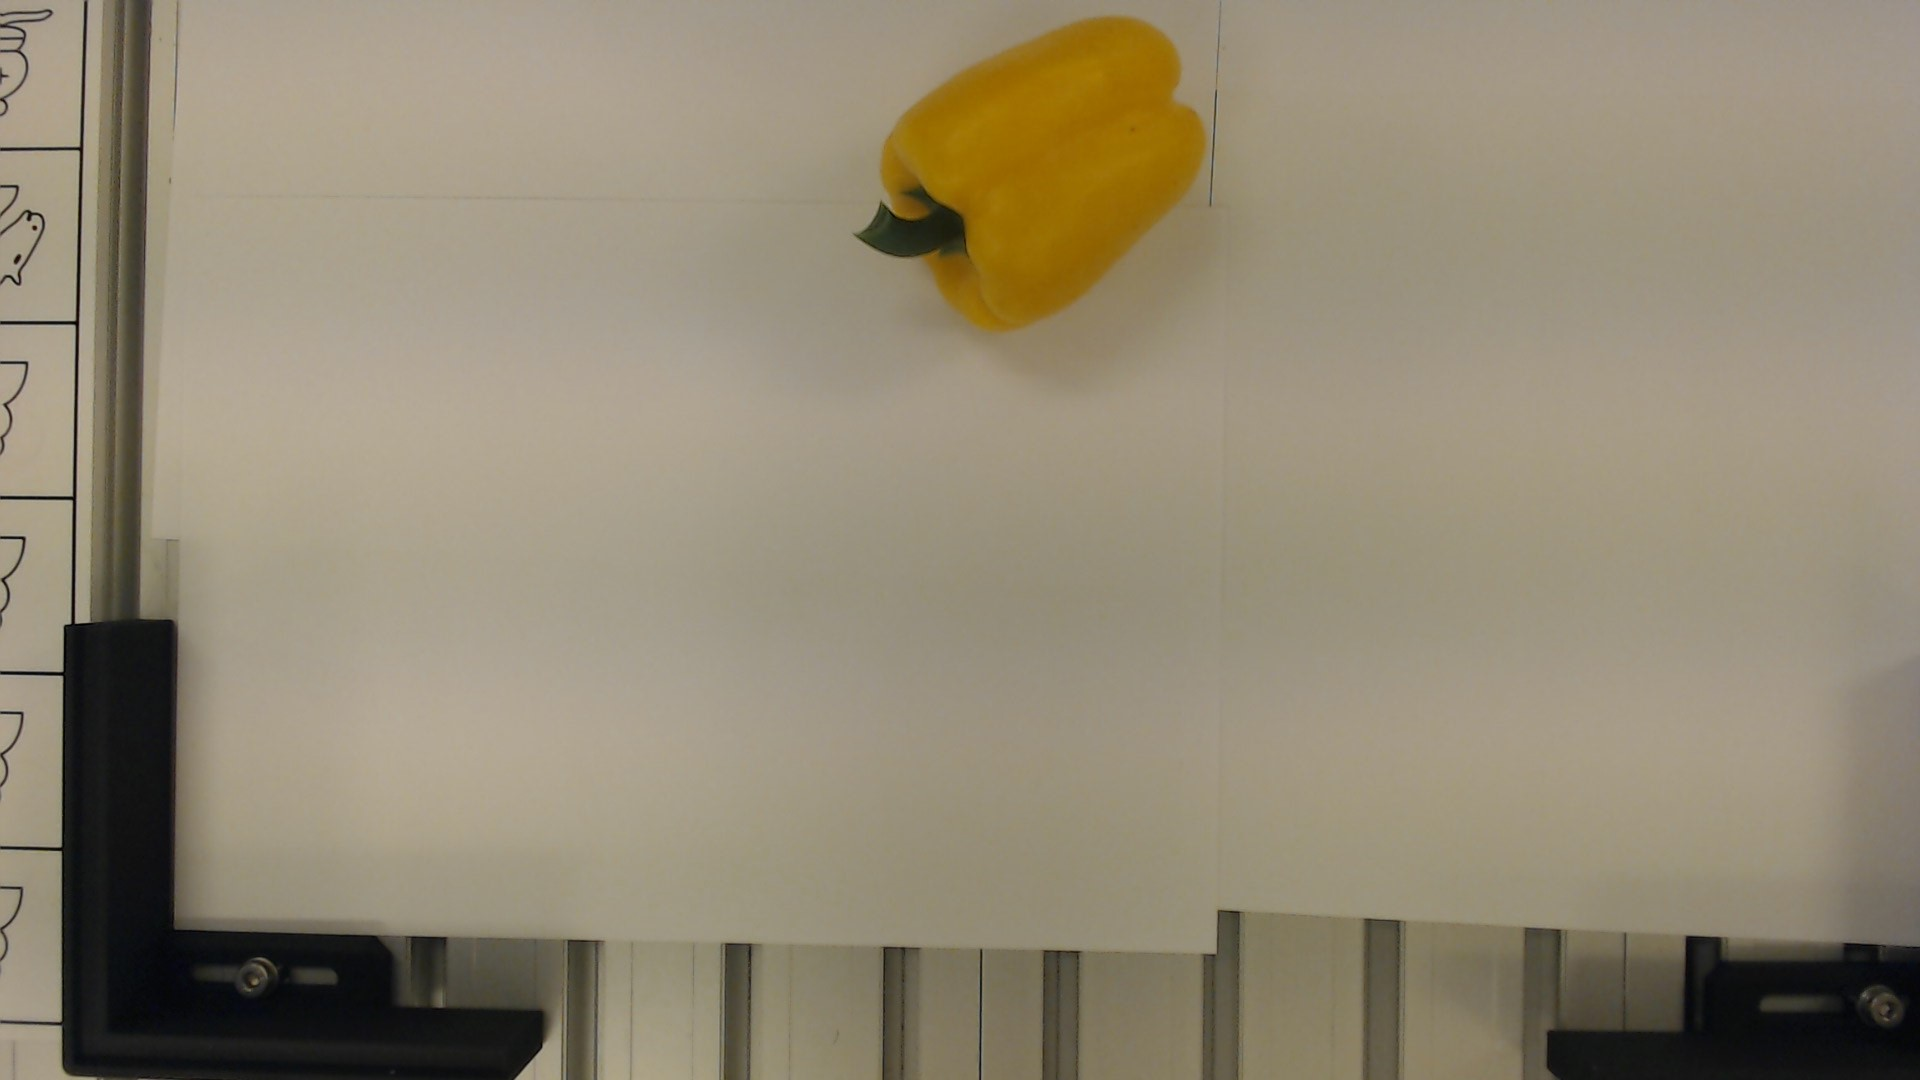Yellow Bell Pepper: (855, 15, 1208, 334)
